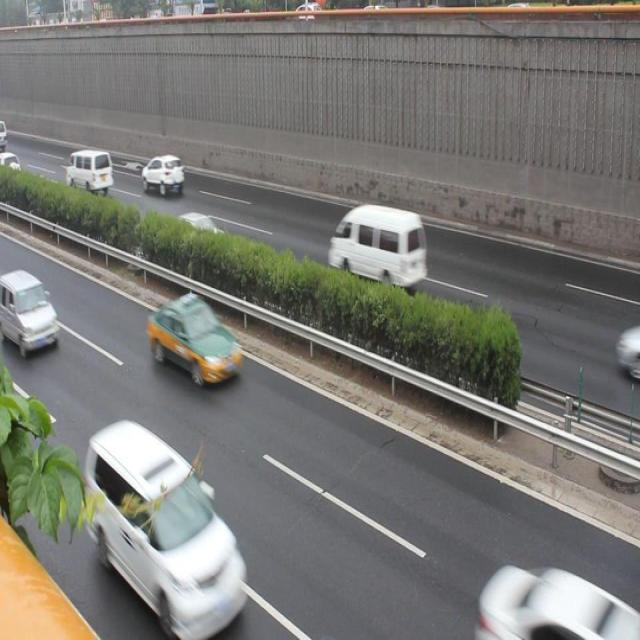car: (86, 419, 252, 632), (474, 554, 640, 640), (153, 293, 245, 392), (1, 270, 62, 356), (172, 203, 226, 253), (139, 154, 185, 202)
truck: (326, 199, 430, 298)
